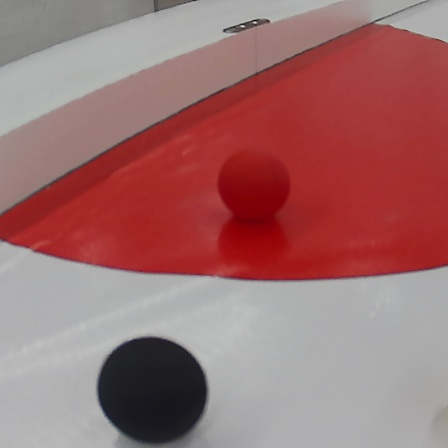black: (96, 337, 208, 444)
red: (216, 149, 295, 221)
red_base: (5, 22, 448, 275)
